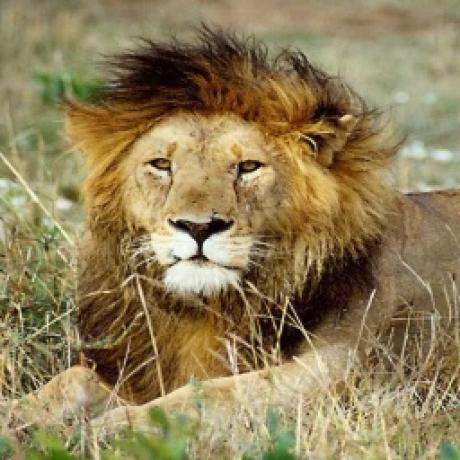Lion: (18, 32, 460, 436)
